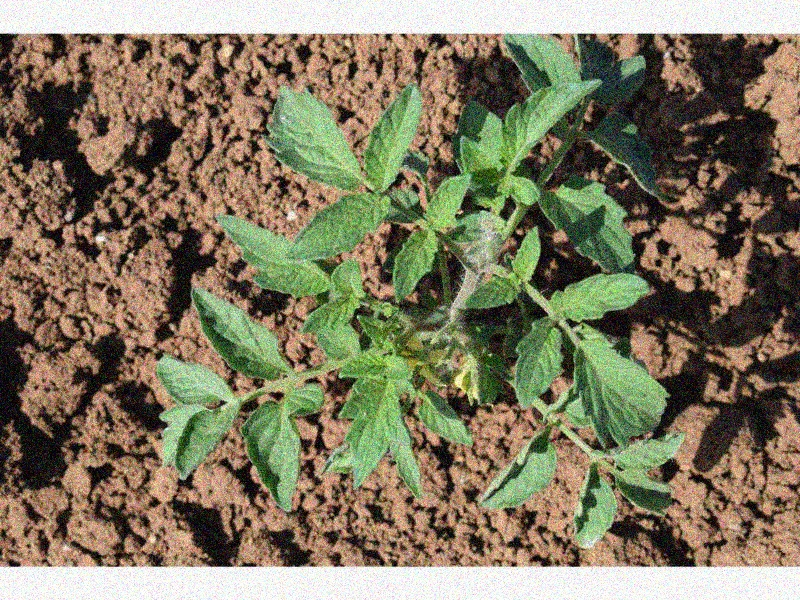tomato: (156, 32, 683, 550)
